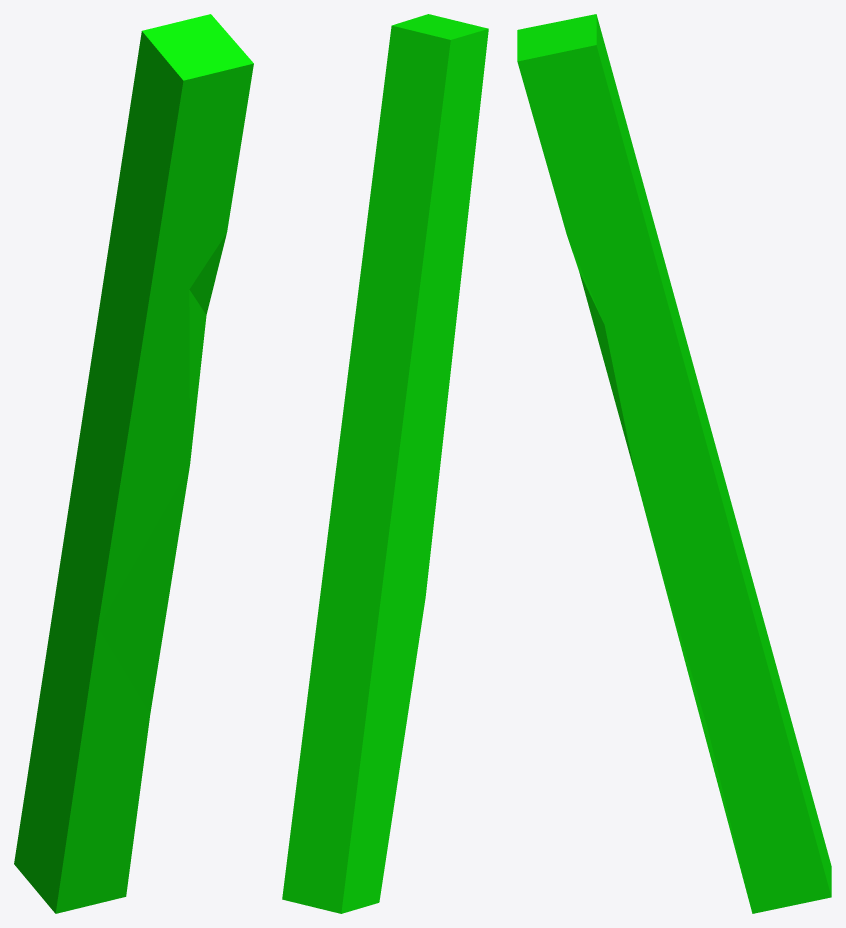
File: SM_Roof_Very_Steep_Truss_Wood_Diagonal_2m.fbx
3 renders of one model, left to right at view 1: azimuth 30°, elevation 25°; view 2: azimuth 150°, elevation 25°; view 3: azimuth 270°, elevation 25°, orthographic. The views are drawn at different scales.
Visible parts, largest first — view 1: roof-very-steep-truss-wood-diagonal-2m; view 2: roof-very-steep-truss-wood-diagonal-2m; view 3: roof-very-steep-truss-wood-diagonal-2m.
Boxes of the visible parts, x1,y1,x2,y2 form: roof-very-steep-truss-wood-diagonal-2m: (14,14,253,913); roof-very-steep-truss-wood-diagonal-2m: (282,14,488,913); roof-very-steep-truss-wood-diagonal-2m: (517,14,831,913).
Bounding box in the file's own units: 0.1727 × 2.04 × 0.6683.
